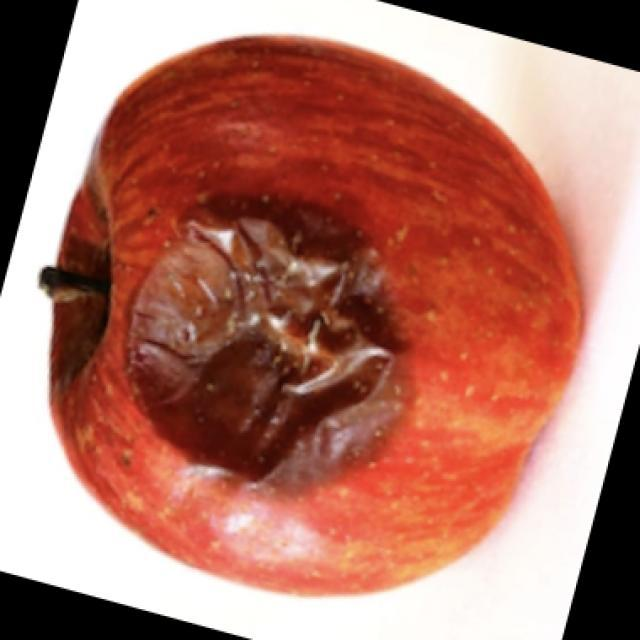Rotten: (52, 45, 585, 593)
